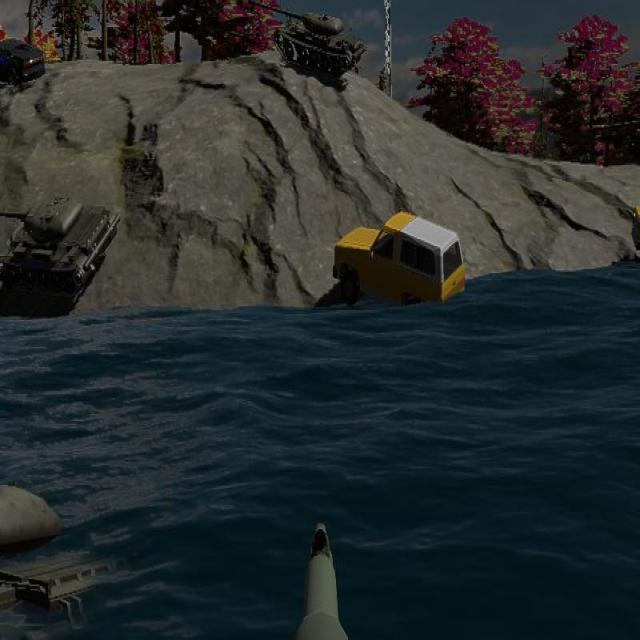Tank: (0, 474, 117, 640), (0, 192, 121, 301), (247, 1, 367, 81), (589, 107, 640, 167)
car: (332, 212, 465, 314), (0, 38, 45, 91)
